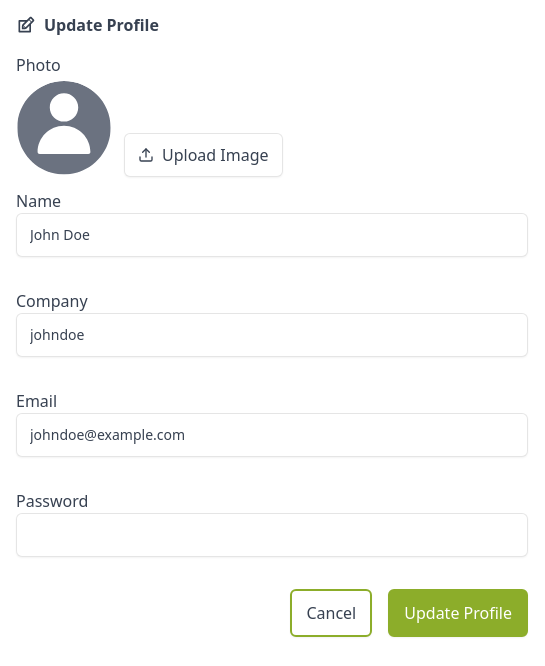
it: UpdateProfile › displays error messages when validation fails
Replace the text in the field labelled "Email" with "invalid-email": (272, 435) x1=16 y1=413 x2=528 y2=457
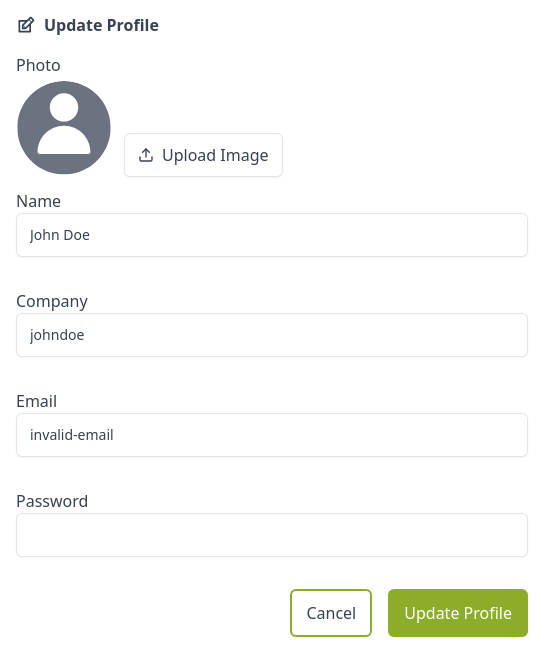
Submit the form from the button "Update Profile", box x1=388 y1=589 x2=528 y2=637
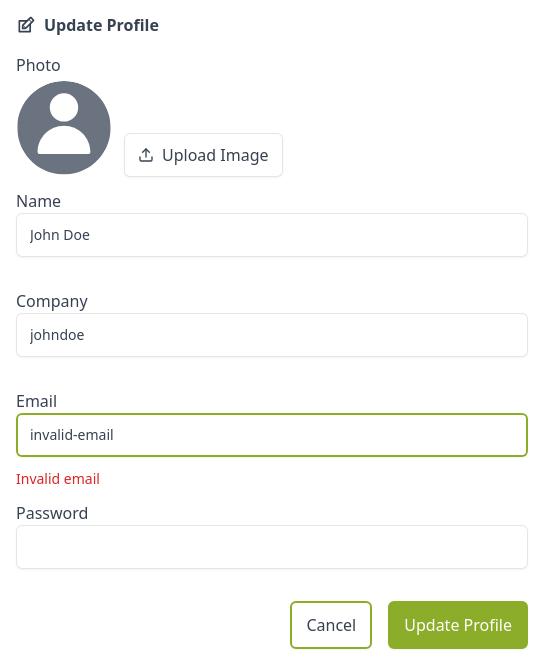
Expected: the text "Invalid email" is shown, x1=16 y1=469 x2=100 y2=488
